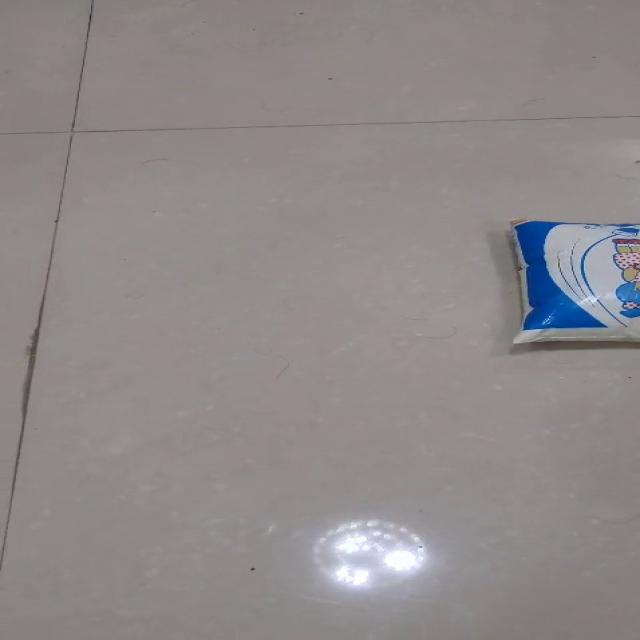plastic: (508, 218, 638, 344)
